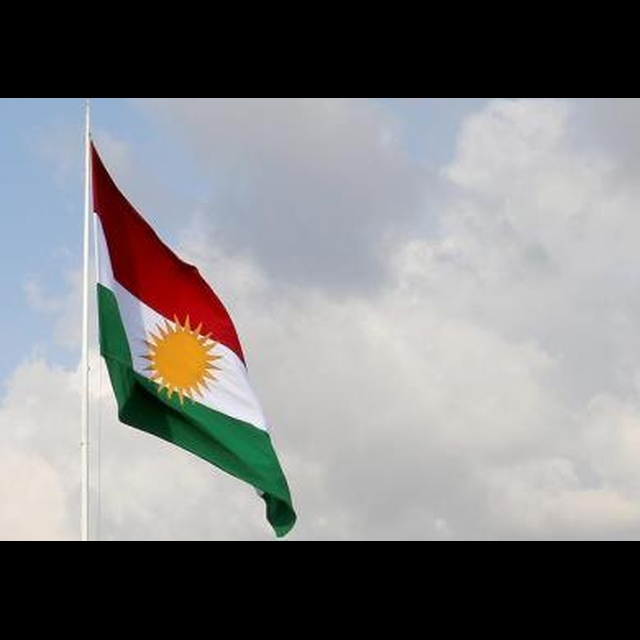IBKY: (119, 258, 233, 433)
